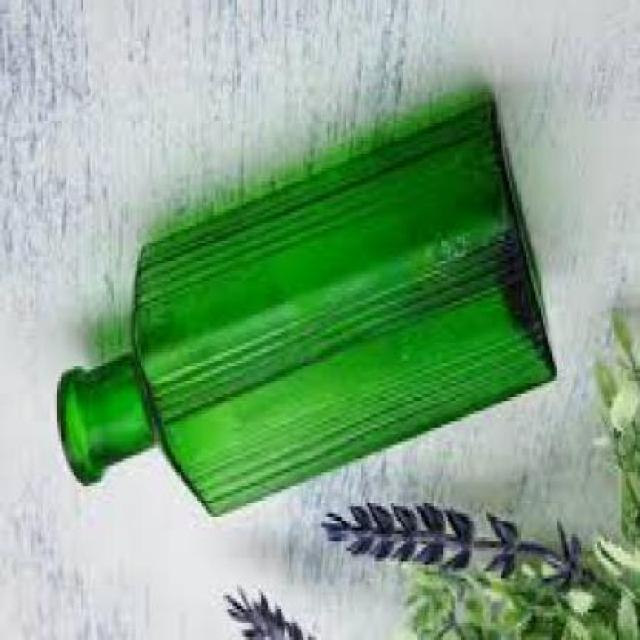GLASS: (57, 99, 555, 521)
